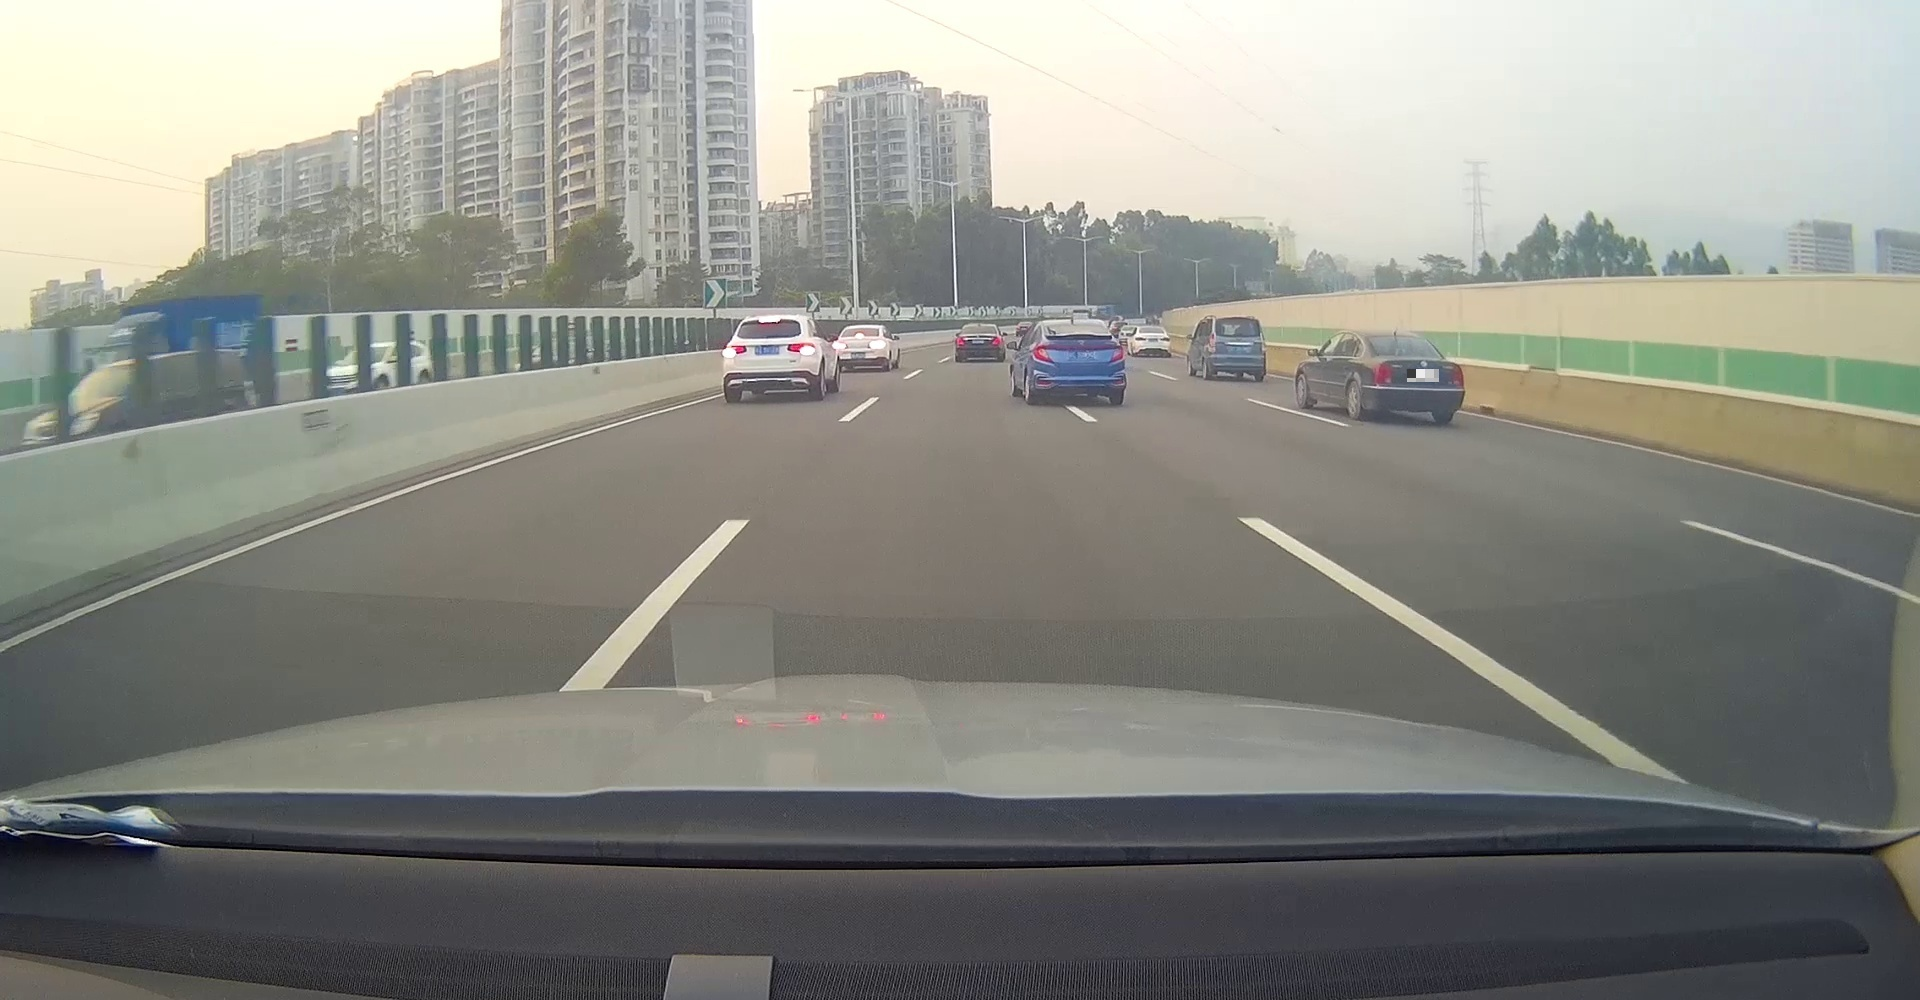L_light: (1032, 341, 1054, 365), (1371, 360, 1392, 386), (721, 344, 745, 358), (1208, 331, 1217, 354), (832, 341, 847, 350), (956, 336, 965, 346), (1135, 336, 1145, 341)
R_light: (789, 343, 817, 357), (1110, 341, 1124, 364), (1451, 365, 1463, 388), (869, 340, 886, 349), (1258, 332, 1266, 353), (990, 336, 1001, 345), (1161, 338, 1170, 341), (974, 325, 983, 327)
T_light: (757, 317, 781, 324), (1390, 334, 1404, 338), (855, 332, 865, 338), (1065, 321, 1077, 324), (1230, 316, 1242, 319)
day-brake: (721, 315, 822, 401), (830, 325, 890, 372)
day-no: (1357, 332, 1465, 421), (1027, 319, 1126, 405), (1204, 316, 1267, 381), (954, 324, 1004, 362), (1133, 326, 1171, 357)
plate_1: (1407, 369, 1439, 382)
